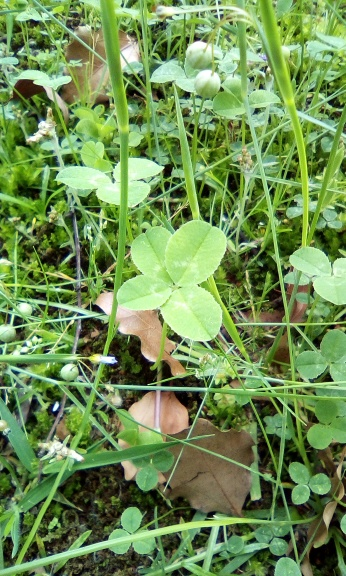4leaf: (116, 218, 228, 343)
